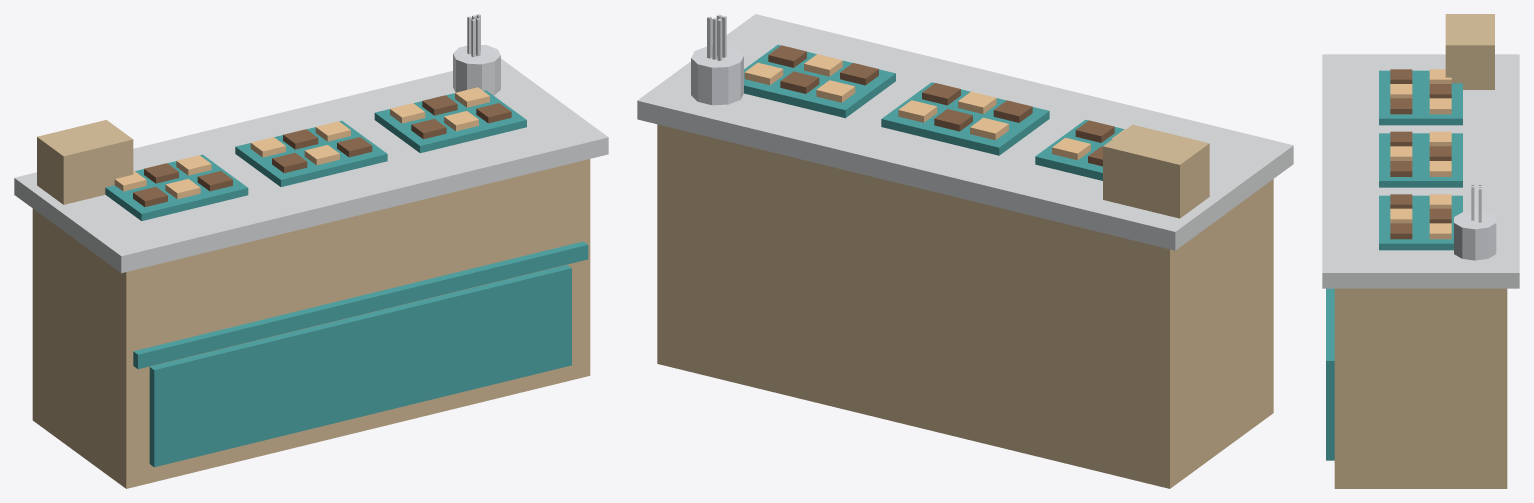
The model's file is chocolate-and-confectionery-factory-taste-counter-4d1ef78f__36804.glb.
3 renders of one model, left to right at view 1: azimuth 30°, elevation 25°; view 2: azimuth 150°, elevation 25°; view 3: azimuth 270°, elevation 25°, orthographic. The views are drawn at different scales.
Parts seen in each view (by area): view 1: taste-counter; view 2: taste-counter; view 3: taste-counter.
Boxes of the visible parts, box(x1,y1,x2,y2) form: taste-counter: box(14, 14, 608, 488); taste-counter: box(637, 14, 1293, 488); taste-counter: box(1322, 14, 1519, 488).
Size of the model in its own units: 2.1 by 1.28 by 0.7999.
